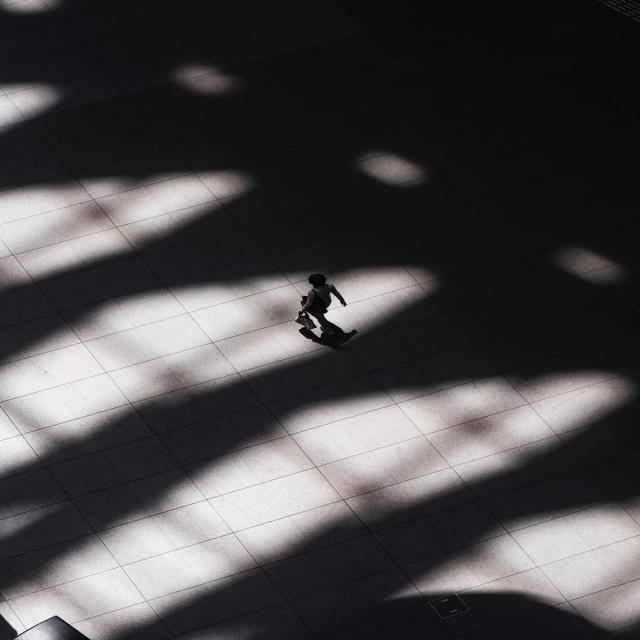adult: (300, 272, 347, 337)
